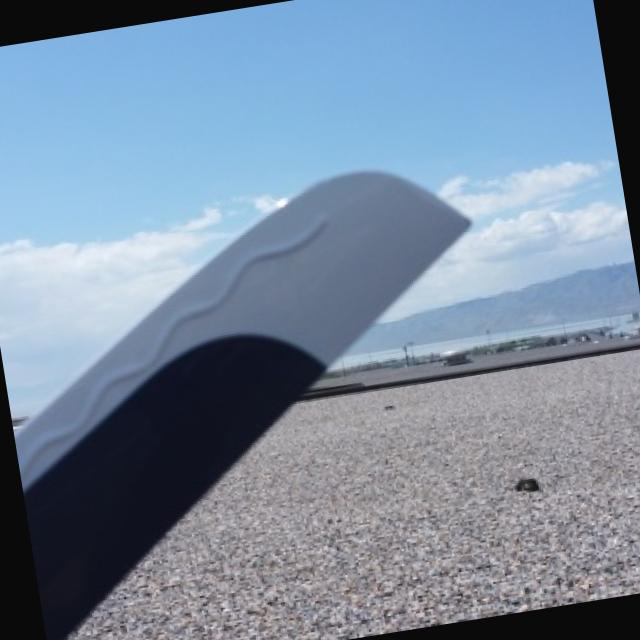healthy: (14, 169, 466, 640)
